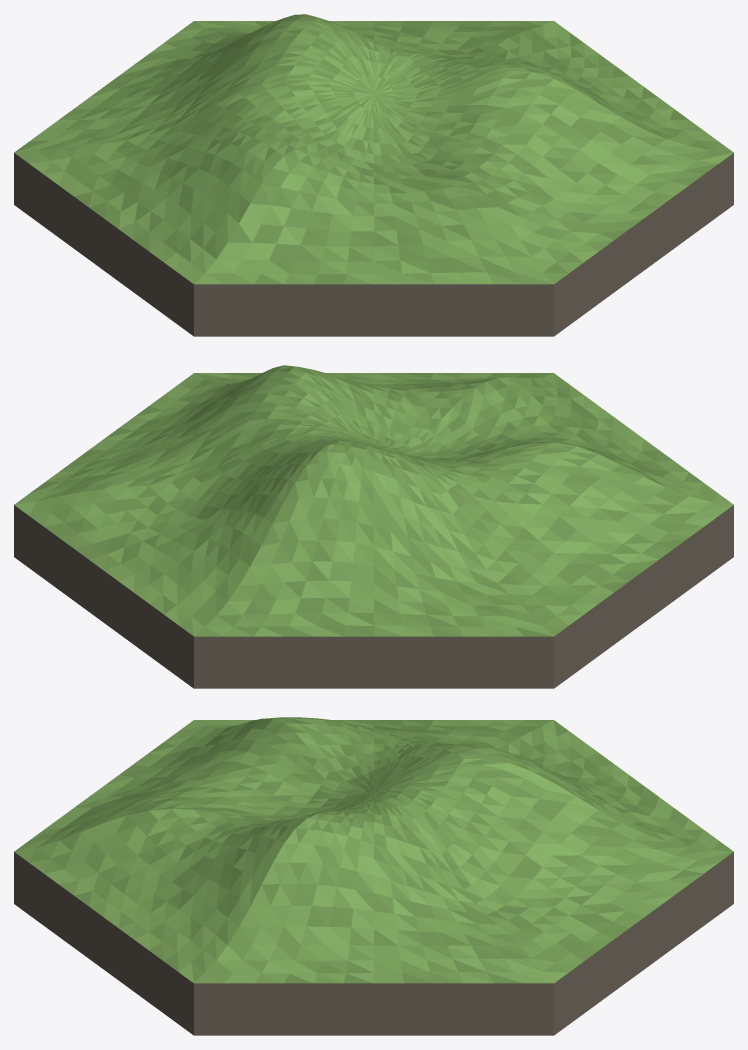
File: TERRAIN_GRASS_HILLS_v02.fbx
3 renders of one model, top to bottom at view 1: azimuth 30°, elevation 25°; view 2: azimuth 150°, elevation 25°; view 3: azimuth 270°, elevation 25°, orthographic.
Visible parts, largest first — view 1: TERRAIN_GRASS_HILLS_v02; view 2: TERRAIN_GRASS_HILLS_v02; view 3: TERRAIN_GRASS_HILLS_v02.
Boxes of the visible parts, x1,y1,x2,y2 form: TERRAIN_GRASS_HILLS_v02: (14,14,733,336); TERRAIN_GRASS_HILLS_v02: (14,365,733,688); TERRAIN_GRASS_HILLS_v02: (14,717,733,1035).
Size of the model in its own units: 173 by 44.76 by 200.
